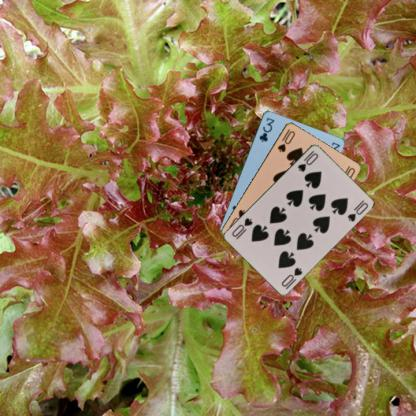10s: (295, 148, 320, 173), (278, 264, 304, 288), (275, 126, 296, 153)
3c: (256, 115, 275, 143)
